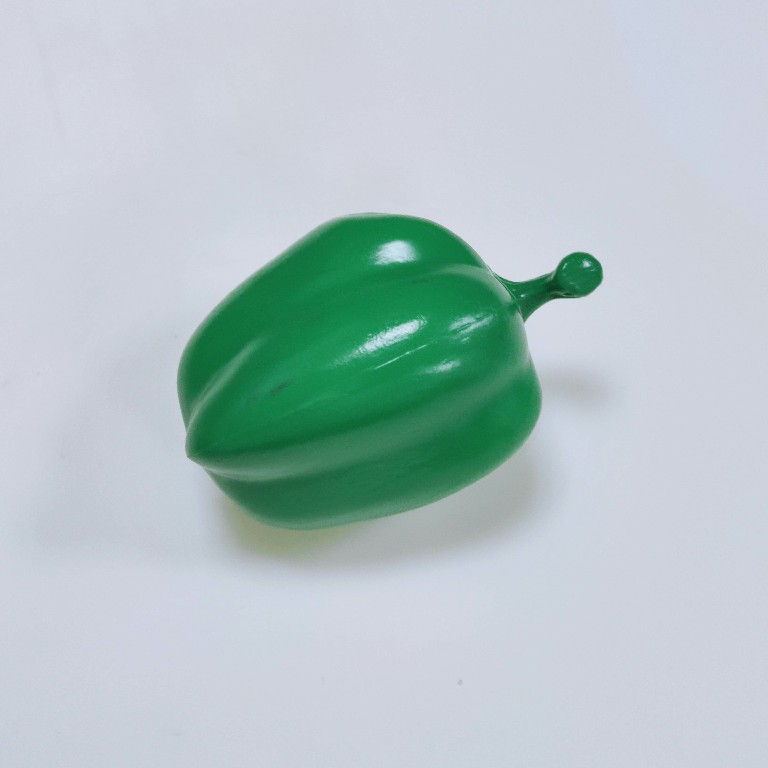fruit_pepper: (168, 205, 607, 535)
